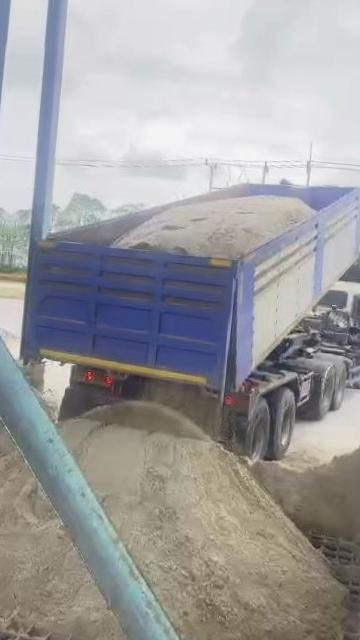sand: (62, 403, 345, 640), (0, 453, 130, 640), (113, 195, 314, 258), (250, 438, 360, 542), (143, 378, 222, 437), (35, 388, 58, 420), (0, 409, 13, 458)
